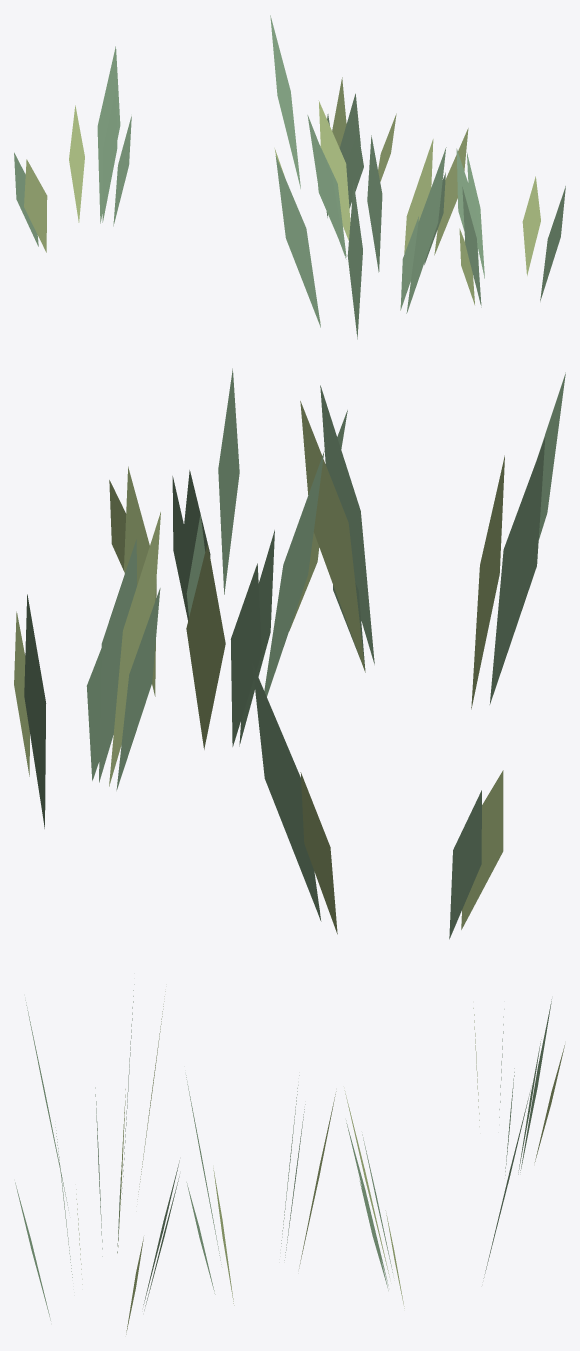
The model's file is grass_short.glb.
3 views of the same model, one above another, from view 1: azimuth 30°, elevation 25°; view 2: azimuth 150°, elevation 25°; view 3: azimuth 270°, elevation 25° (orthographic). The views are drawn at different scales.
Parts seen in each view (by area): view 1: grass_short; view 2: grass_short; view 3: grass_short.
Part boxes in pixels (x1,y1,x2,y2): grass_short: (14, 15, 565, 339); grass_short: (14, 368, 565, 939); grass_short: (15, 984, 564, 1334).
Size of the model in its own units: 1.14 by 0.5167 by 1.17.
